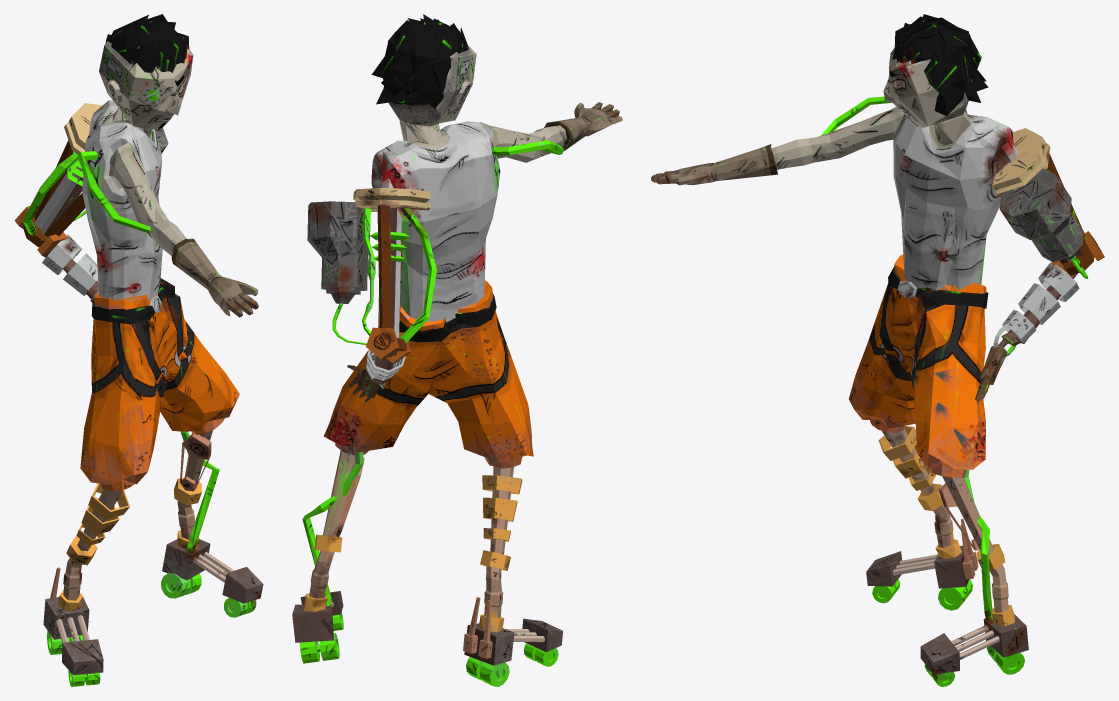
Rendered from CyborgFINALAnimation_000012.obj.
3 renders of one model, left to right at view 1: azimuth 30°, elevation 25°; view 2: azimuth 150°, elevation 25°; view 3: azimuth 270°, elevation 25°, orthographic. The views are drawn at different scales.
Visible parts, largest first — view 1: CyborgMesh_Cube.002; view 2: CyborgMesh_Cube.002; view 3: CyborgMesh_Cube.002.
Boxes of the visible parts, <box> form: CyborgMesh_Cube.002: <box>14,14,263,686</box>; CyborgMesh_Cube.002: <box>292,14,622,686</box>; CyborgMesh_Cube.002: <box>651,14,1104,686</box>.
Size of the model in its own units: 3.47 by 9.5 by 6.29.
